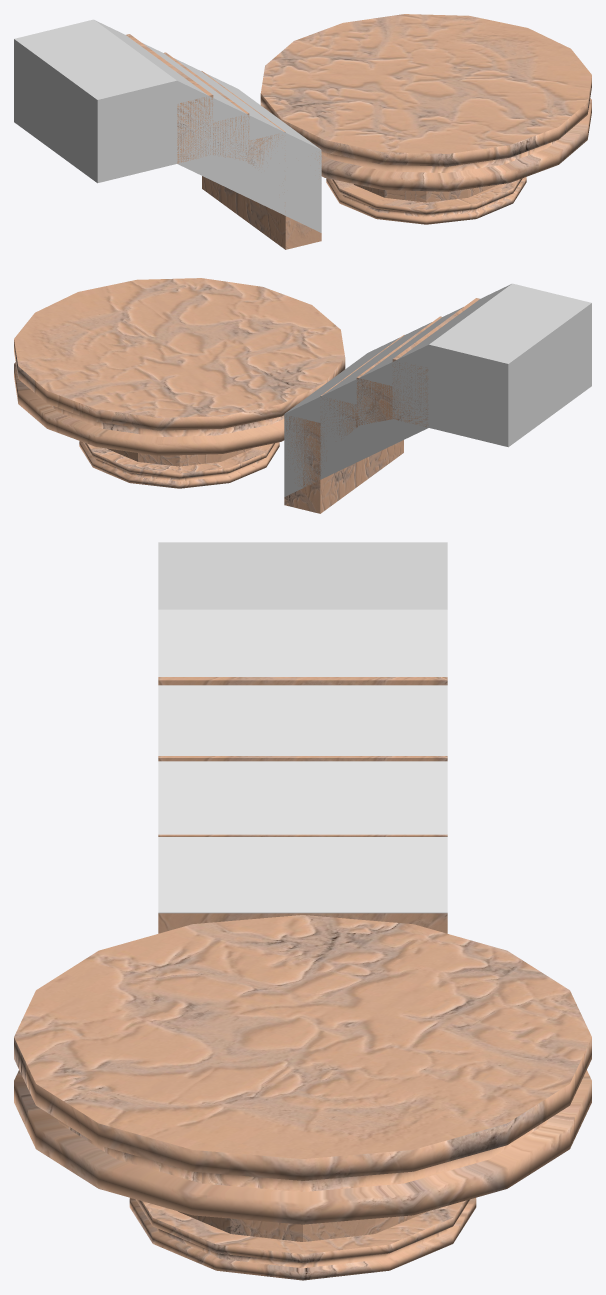
Rendered from tpPad.gltf.
The picture shows the model from 3 angles, top to bottom: view 1: azimuth 30°, elevation 25°; view 2: azimuth 150°, elevation 25°; view 3: azimuth 270°, elevation 25°; orthographic projection. The views are drawn at different scales.
Parts seen in each view (by area): view 1: Top, Cube, Stairs, Bottom, Mid; view 2: Top, Cube, Stairs, Bottom, Mid; view 3: Top, Cube, Bottom, Stairs, Mid.
Part boxes in pixels (x1=…): Top: x1=260, y1=14, x2=591, y2=191; Cube: x1=14, y1=19, x2=321, y2=232; Stairs: x1=126, y1=34, x2=321, y2=249; Bottom: x1=326, y1=177, x2=526, y2=224; Mid: x1=353, y1=184, x2=498, y2=202; Top: x1=14, y1=278, x2=345, y2=455; Cube: x1=284, y1=283, x2=591, y2=496; Stairs: x1=284, y1=298, x2=479, y2=513; Bottom: x1=79, y1=441, x2=279, y2=488; Mid: x1=107, y1=448, x2=252, y2=466; Top: x1=14, y1=915, x2=591, y2=1224; Cube: x1=158, y1=542, x2=447, y2=913; Bottom: x1=129, y1=1198, x2=476, y2=1280; Stairs: x1=158, y1=677, x2=447, y2=933; Mid: x1=178, y1=1211, x2=427, y2=1241.
Size of what is drawn, in the model's own units: 3.56 by 1.34 by 2.
1 material, 1 textured.
